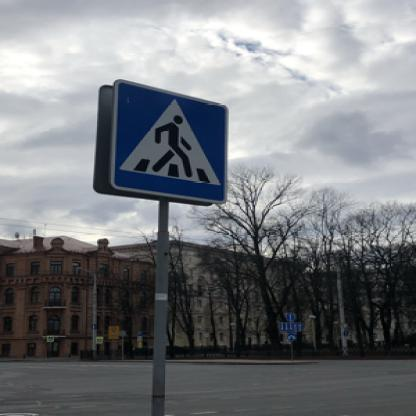crosswalk: (108, 78, 228, 204)
